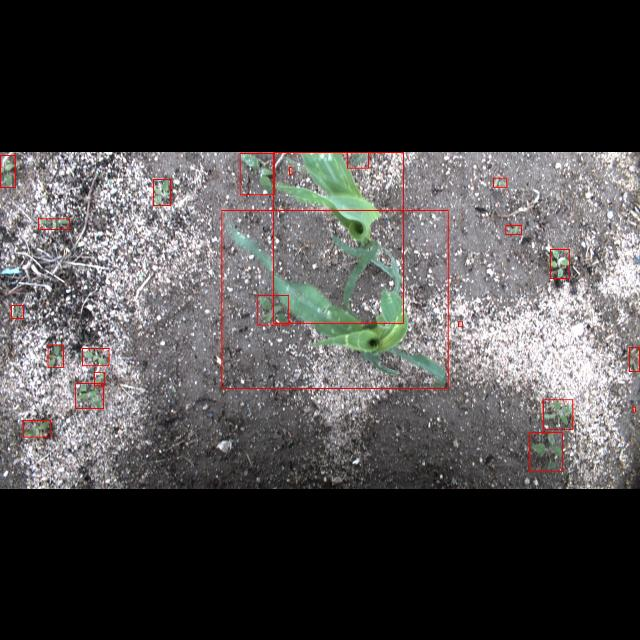crop: (222, 208, 448, 388), (273, 152, 403, 322), (348, 151, 368, 167)
weed: (240, 152, 274, 194), (530, 432, 562, 472), (258, 295, 288, 325), (543, 399, 573, 429), (76, 382, 104, 408), (550, 248, 570, 278), (82, 348, 110, 366), (1, 155, 16, 187), (154, 178, 170, 206), (24, 420, 51, 436), (48, 344, 64, 366), (39, 218, 70, 228), (629, 347, 639, 371), (11, 304, 23, 318), (506, 224, 522, 233), (94, 371, 104, 385), (494, 177, 506, 186), (632, 406, 636, 412), (458, 322, 462, 326), (290, 166, 292, 174)
